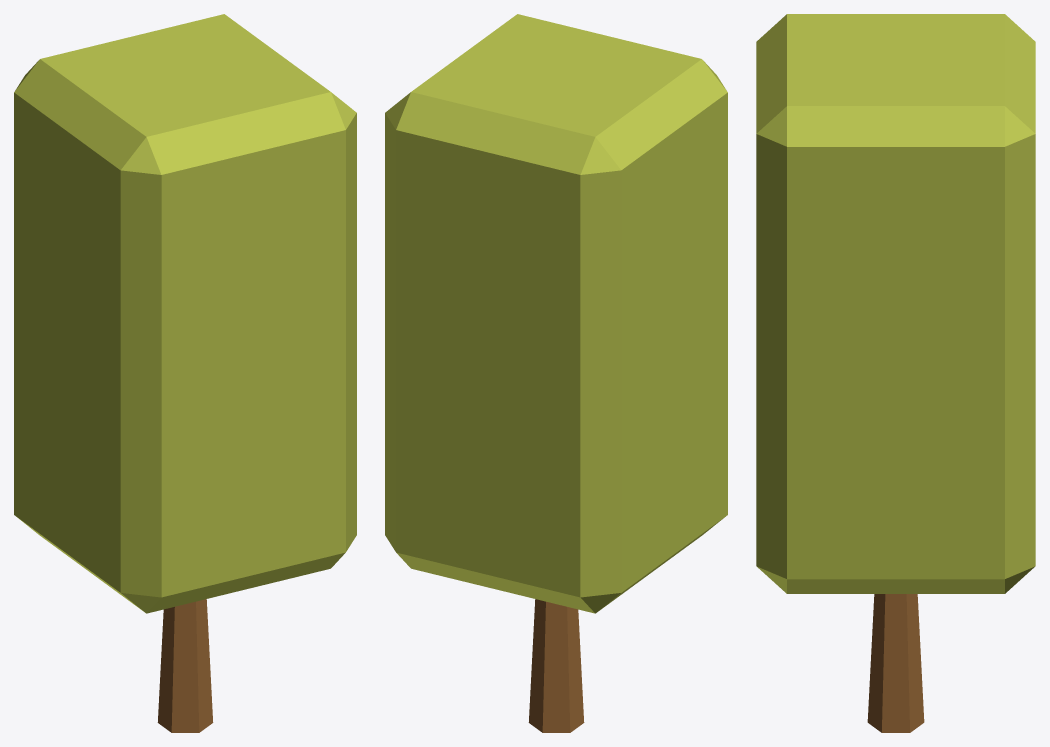
The model's file is treeA.FBX.
3 renders of one model, left to right at view 1: azimuth 30°, elevation 25°; view 2: azimuth 150°, elevation 25°; view 3: azimuth 270°, elevation 25°, orthographic. The views are drawn at different scales.
Visible parts, largest first — view 1: treeA; view 2: treeA; view 3: treeA.
Boxes of the visible parts, left/top/right/bottom form: treeA: left=14, top=14, right=356, bottom=732; treeA: left=385, top=14, right=727, bottom=732; treeA: left=756, top=14, right=1035, bottom=732.
Bounding box in the file's own units: 1.87 × 4.89 × 1.87.
